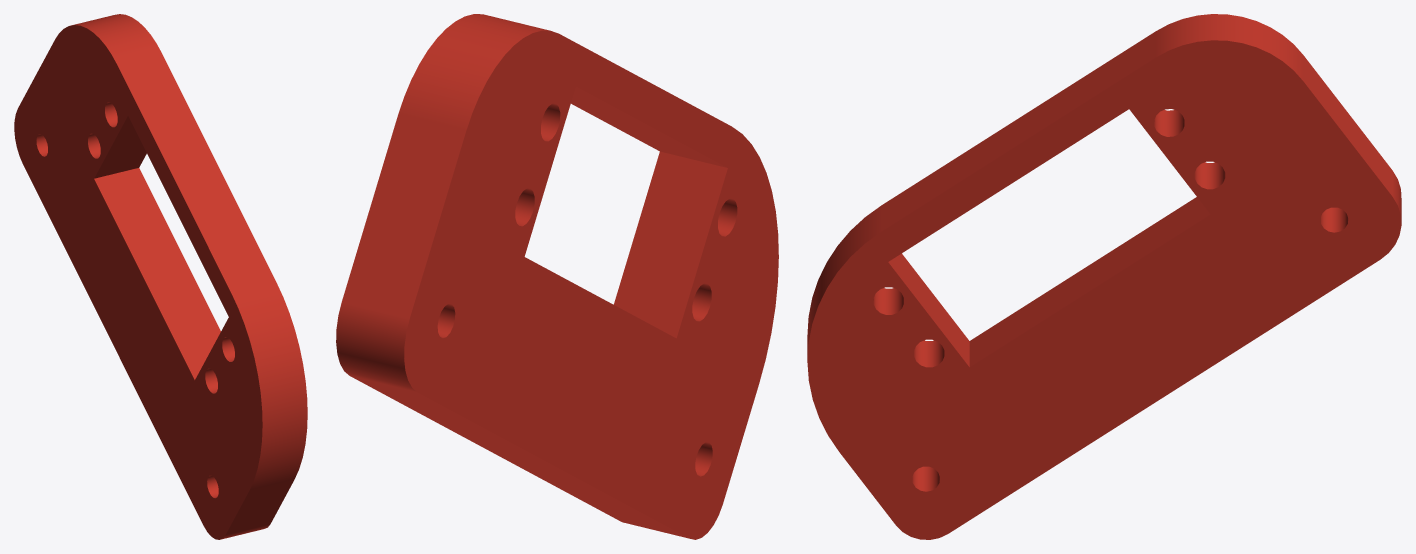
File: kaki atas.obj
3 renders of one model, left to right at view 1: azimuth 30°, elevation 25°; view 2: azimuth 150°, elevation 25°; view 3: azimuth 270°, elevation 25°, orthographic. The views are drawn at different scales.
Parts seen in each view (by area): view 1: Solid1; view 2: Solid1; view 3: Solid1.
Part boxes in pixels (x1,y1,x2,y2): Solid1: (14,14,307,539); Solid1: (336,14,778,539); Solid1: (807,14,1401,539).
Bounding box in the file's own units: 0.009 × 0.0796 × 0.0858.
